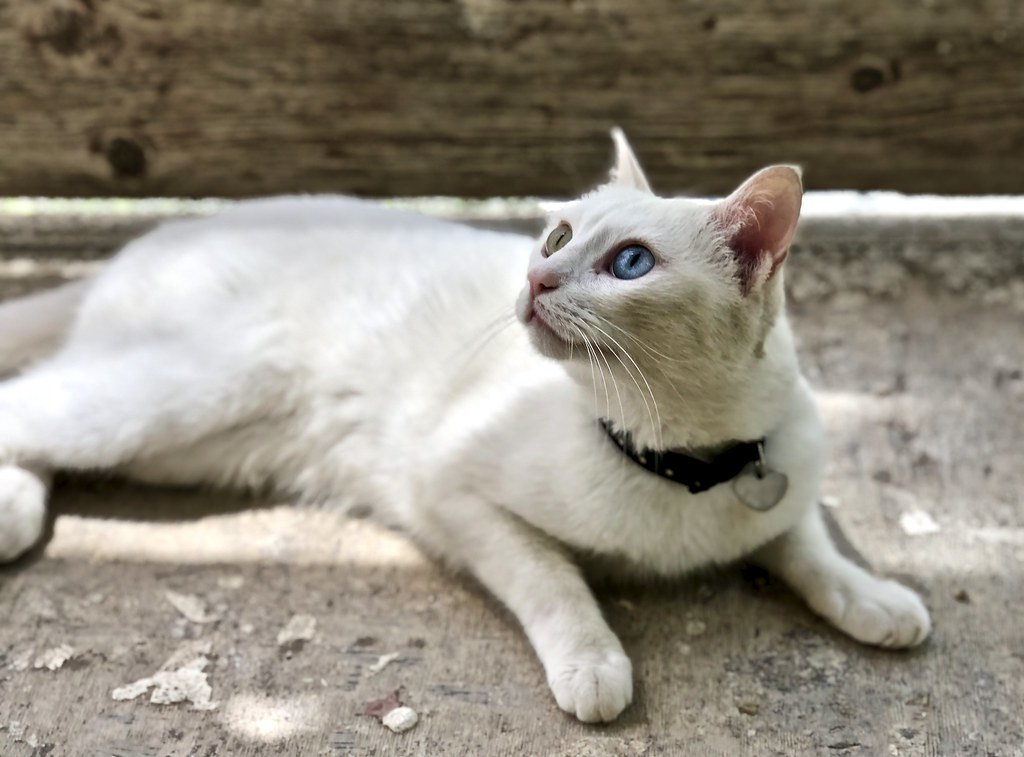cat: (1, 123, 932, 731)
cat-face: (498, 122, 822, 482)
